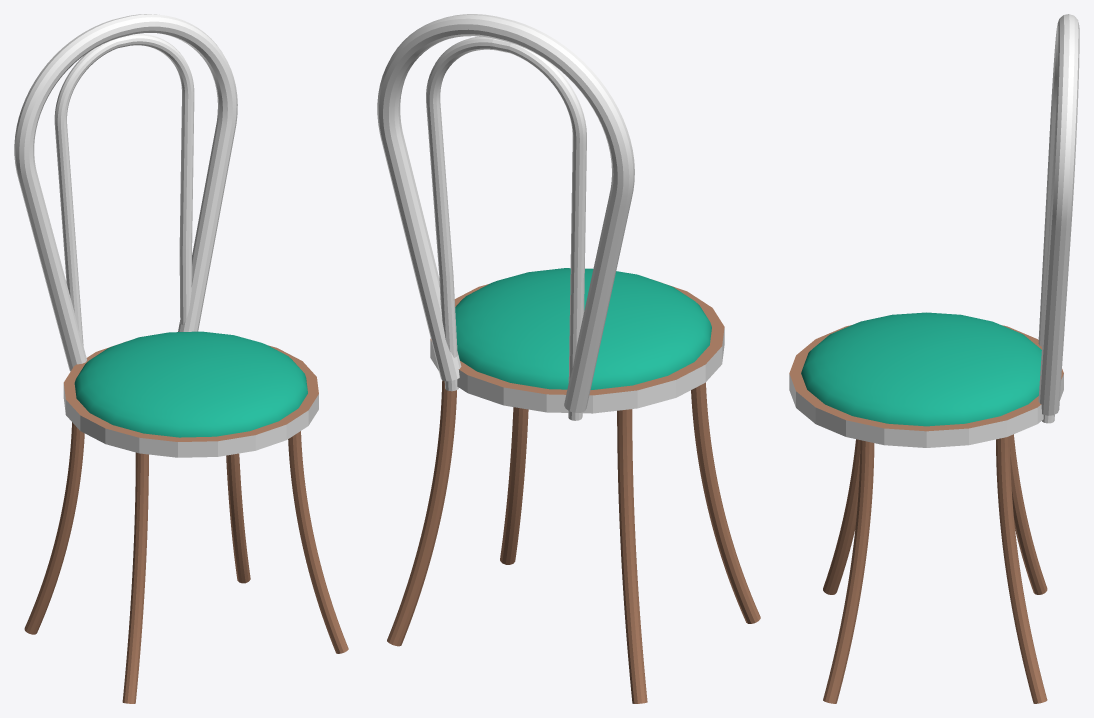
Rendered from chair.fbx.
The picture shows the model from 3 angles, left to right: view 1: azimuth 30°, elevation 25°; view 2: azimuth 150°, elevation 25°; view 3: azimuth 270°, elevation 25°; orthographic projection. The views are drawn at different scales.
Parts seen in each view (by area): view 1: chair; view 2: chair; view 3: chair.
Boxes of the visible parts, x1,y1,x2,y2 form: chair: (14, 14, 348, 703); chair: (377, 14, 760, 703); chair: (789, 14, 1079, 703).
Bounding box in the file's own units: 1.39 × 3.43 × 1.46.
